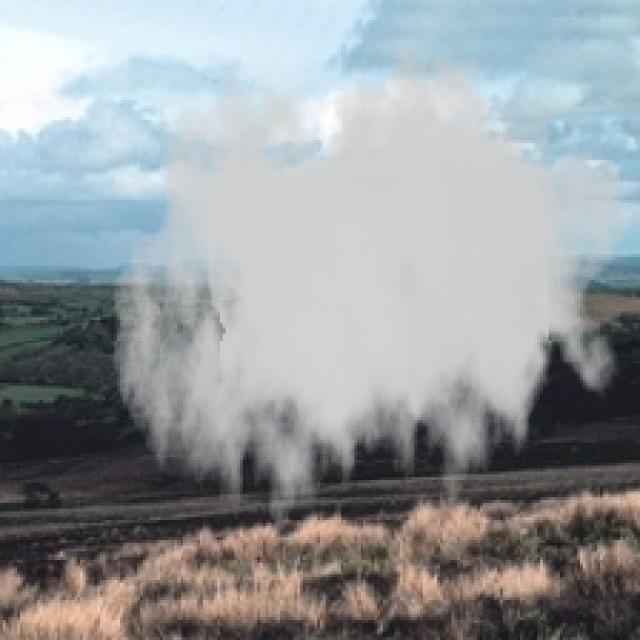Smoke: (111, 26, 632, 560)
